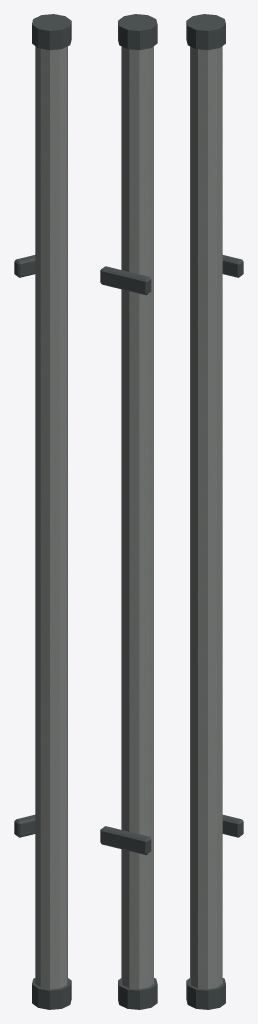
Rendered from D_Drain_Straight12_visual.glb.
3 renders of one model, left to right at view 1: azimuth 30°, elevation 25°; view 2: azimuth 150°, elevation 25°; view 3: azimuth 330°, elevation 25°, orthographic.
Parts seen in each view (by area): view 1: D_Drain_Straight12__VIS; view 2: D_Drain_Straight12__VIS; view 3: D_Drain_Straight12__VIS.
Boxes of the visible parts, x1,y1,x2,y2 form: D_Drain_Straight12__VIS: [14, 14, 71, 1009]; D_Drain_Straight12__VIS: [100, 14, 157, 1009]; D_Drain_Straight12__VIS: [186, 14, 243, 1009].
Size of the model in its own units: 0.62 by 12.24 by 0.56.
Materials: 1 (1 with a texture image).
